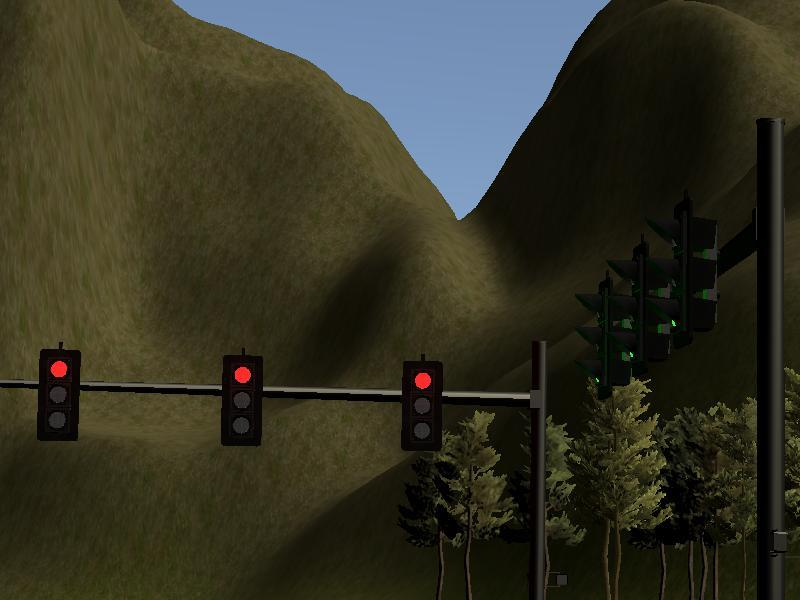Red: (220, 354, 261, 444), (402, 360, 441, 450), (38, 350, 77, 440)
